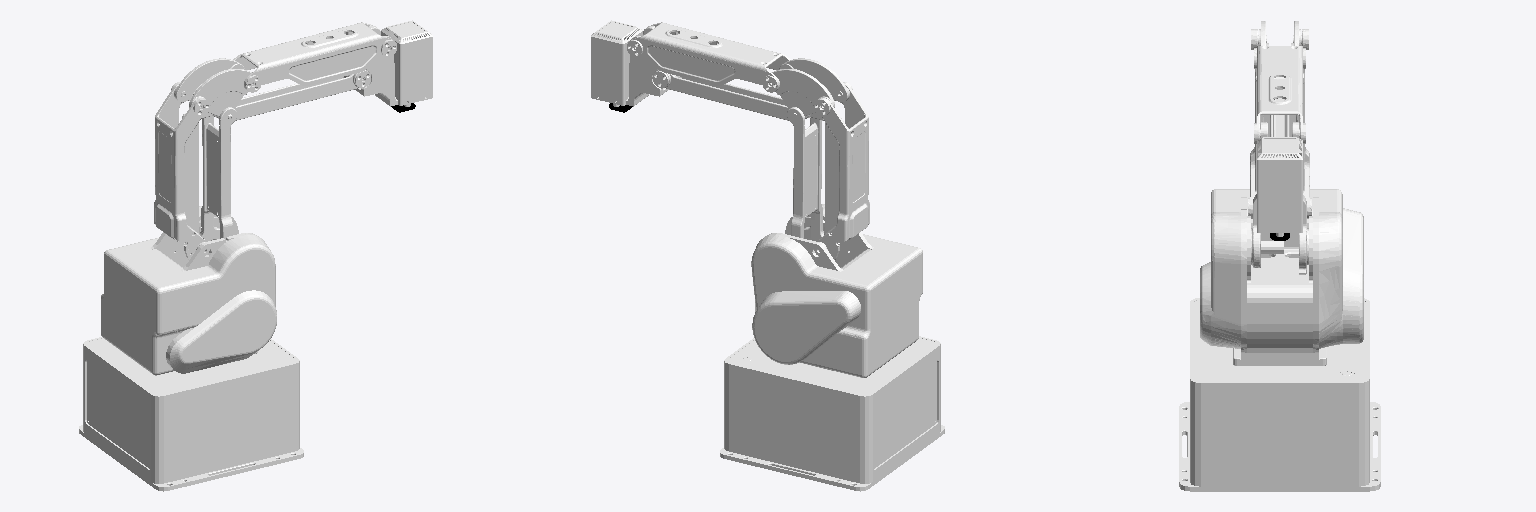
URDF robot description (mg400):
<?xml version="1.0" encoding="utf-8"?>
<!-- This URDF was automatically created by SolidWorks to URDF Exporter! Originally created by [author] ([email redacted]) 
     Commit Version: 1.6.0-1-g15f4949  Build Version: 1.6.7594.29634
     For more information, please see http://wiki.ros.org/sw_urdf_exporter -->
<robot name="mg400">
    <link name="base_link">
        <inertial>
            <origin xyz="0.000600637001378879 -2.53487071137343E-07 0.0560927888040551" rpy="0 0 0"/>
            <mass value="3.62164811695094"/>
            <inertia
                    ixx="0.0126582175296405"
                    ixy="6.66832041405407E-08"
                    ixz="-3.52548281362717E-06"
                    iyy="0.0145891535260188"
                    iyz="5.15901657460475E-08"
                    izz="0.0195045116656827"/>
        </inertial>
        <visual>
            <origin xyz="0 0 0" rpy="0 0 0"/>
            <geometry>
                <mesh filename="package://mg400/meshes/base_link.STL"/>
            </geometry>
            <material name="">
                <color rgba="1 1 1 1"/>
            </material>
        </visual>
        <collision>
            <origin xyz="0 0 0" rpy="0 0 0"/>
            <geometry>
                <mesh filename="package://mg400/meshes/base_link.STL"/>
            </geometry>
        </collision>
    </link>

    <link name="link1">
        <inertial>
            <origin xyz="-0.0046209286967387 -6.88107982318643E-05 0.0709919358465827" rpy="0 0 0"/>
            <mass value="1.77056222753813"/>
            <inertia
                    ixx="0.00605885293080088"
                    ixy="0.000156081820035162"
                    ixz="-0.00021785654850453"
                    iyy="0.00579381982249127"
                    iyz="6.20876898015621E-05"
                    izz="0.00741058257251941"/>
        </inertial>
        <visual>
            <origin xyz="0 0 0" rpy="0 0 0"/>
            <geometry>
                <mesh filename="package://mg400/meshes/link1.STL"/>
            </geometry>
            <material name="">
                <color rgba="1 1 1 1"/>
            </material>
        </visual>
        <collision>
            <origin xyz="0 0 0" rpy="0 0 0"/>
            <geometry>
                <mesh filename="package://mg400/meshes/link1.STL"/>
            </geometry>
        </collision>
    </link>

    <joint name="j1" type="revolute">
        <origin xyz="-0.00500000000000002 0 0.109" rpy="0 0 0"/>
        <parent link="base_link"/>
        <child link="link1"/>
        <axis xyz="0 0 1"/>
        <limit lower="-3.14" upper="3.14" effort="0" velocity="0"/>
    </joint>

    <link name="link2_1">
        <inertial>
            <origin xyz="-0.00321788524756698 0.0352926570826593 0.0596131328734945" rpy="0 0 0"/>
            <mass value="0.0866115884541459"/>
            <inertia
                    ixx="0.000338551627157209"
                    ixy="-2.78858228577314E-09"
                    ixz="1.05212346076681E-05"
                    iyy="0.000307789653713489"
                    iyz="-1.36109590152488E-06"
                    izz="3.89949940178023E-05"/>
        </inertial>
        <visual>
            <origin xyz="0 0 0" rpy="0 0 0"/>
            <geometry>
                <mesh filename="package://mg400/meshes/link2_1.STL"/>
            </geometry>
            <material name="">
                <color rgba="1 1 1 1"/>
            </material>
        </visual>
        <collision>
            <origin xyz="0 0 0" rpy="0 0 0"/>
            <geometry>
                <mesh filename="package://mg400/meshes/link2_1.STL"/>
            </geometry>
        </collision>
    </link>

    <joint name="j2_1" type="revolute">
        <origin xyz="0.0435007595118091 -0.0357748756218899 0.118995682641123" rpy="0 0 0"/>
        <parent link="link1"/>
        <child link="link2_1"/>
        <axis xyz="0 1 0"/>
        <limit lower="-3.14" upper="3.14" effort="0" velocity="0"/>
    </joint>

    <link name="link3_1">
        <inertial>
            <origin xyz="0.0821679417596488 0.000113044685842874 -0.00333758753063973" rpy="0 0 0"/>
            <mass value="0.0375214831045061"/>
            <inertia
                    ixx="2.54761091812684E-06"
                    ixy="3.73102654491378E-07"
                    ixz="-2.02625705871199E-06"
                    iyy="0.000164234314177935"
                    iyz="-1.44731096825347E-08"
                    izz="0.000164331500854172"/>
        </inertial>
        <visual>
            <origin xyz="0 0 0" rpy="0 0 0"/>
            <geometry>
                <mesh filename="package://mg400/meshes/link3_1.STL"/>
            </geometry>
            <material name="">
                <color rgba="1 1 1 1"/>
            </material>
        </visual>
        <collision>
            <origin xyz="0 0 0" rpy="0 0 0"/>
            <geometry>
                <mesh filename="package://mg400/meshes/link3_1.STL"/>
            </geometry>
        </collision>
    </link>

    <joint name="j3_1" type="revolute">
        <origin xyz="-0.0010512570171516 0.0357748756218898 0.175001164344716" rpy="0 0 0"/>
        <parent link="link2_1"/>
        <child link="link3_1"/>
        <axis xyz="0 1 0"/>
        <limit lower="-3.14" upper="3.14" effort="0" velocity="0"/>
    </joint>

    <link name="link4_1">
        <inertial>
            <origin xyz="0.0387878182928232 0.0170848333998282 -0.0024610990490942" rpy="0 0 0"/>
            <mass value="0.0628979533925801"/>
            <inertia
                    ixx="4.78483605712844E-05"
                    ixy="1.42081909356751E-07"
                    ixz="8.32917079044309E-06"
                    iyy="5.42362047732042E-05"
                    iyz="-2.90608446019989E-08"
                    izz="3.36120409842199E-05"/>
        </inertial>
        <visual>
            <origin xyz="0 0 0" rpy="0 0 0"/>
            <geometry>
                <mesh filename="package://mg400/meshes/link4_1.STL"/>
            </geometry>
            <material name="">
                <color rgba="1 1 1 1"/>
            </material>
        </visual>
        <collision>
            <origin xyz="0 0 0" rpy="0 0 0"/>
            <geometry>
                <mesh filename="package://mg400/meshes/link4_1.STL"/>
            </geometry>
        </collision>
    </link>

    <joint name="j4_1" type="revolute">
        <origin xyz="0.174969784055705 -0.0170000000000335 0.00325187137614585" rpy="0 0 0"/>
        <parent link="link3_1"/>
        <child link="link4_1"/>
        <axis xyz="0 1 0"/>
        <limit lower="-3.14" upper="3.14" effort="0" velocity="0"/>
    </joint>

    <link name="link5">
        <inertial>
            <origin xyz="4.24246458685662E-07 3.08507851181768E-14 -0.0349688816440933" rpy="0 0 0"/>
            <mass value="0.0965276919819365"/>
            <inertia
                    ixx="4.98589992160928E-05"
                    ixy="-1.534865545378E-12"
                    ixz="3.46424449605658E-10"
                    iyy="4.98589881725446E-05"
                    iyz="-5.64890953414983E-17"
                    izz="2.130463008359E-05"/>
        </inertial>
        <visual>
            <origin xyz="0 0 0" rpy="0 0 0"/>
            <geometry>
                <mesh filename="package://mg400/meshes/link5.STL"/>
            </geometry>
            <material name="">
                <color rgba="1 1 1 1"/>
            </material>
        </visual>
        <collision>
            <origin xyz="0 0 0" rpy="0 0 0"/>
            <geometry>
                <mesh filename="package://mg400/meshes/link5.STL"/>
            </geometry>
        </collision>
    </link>

    <joint name="j5" type="revolute">
        <origin xyz="0.0659996239003897 0.0170000000000371 0.031000800715573" rpy="0 0 0"/>
        <parent link="link4_1"/>
        <child link="link5"/>
        <axis xyz="-1.19408295462994E-05 0 0.999999999928708"/>
        <limit lower="-3.14" upper="3.14" effort="0" velocity="0"/>
    </joint>

    <link name="link2_2">
        <inertial>
            <origin xyz="-0.0201111131723385 0.0304999635268521 0.073632809340276" rpy="0 0 0"/>
            <mass value="0.0662546292985346"/>
            <inertia
                    ixx="0.000218973873589181"
                    ixy="3.0147933007673E-10"
                    ixz="2.51402553227571E-06"
                    iyy="0.000200510070261609"
                    iyz="-1.41837669904595E-09"
                    izz="3.74316777806776E-05"/>
        </inertial>
        <visual>
            <origin xyz="0 0 0" rpy="0 0 0"/>
            <geometry>
                <mesh filename="package://mg400/meshes/link2_2.STL"/>
            </geometry>
            <material name="">
                <color rgba="1 1 1 1"/>
            </material>
        </visual>
        <collision>
            <origin xyz="0 0 0" rpy="0 0 0"/>
            <geometry>
                <mesh filename="package://mg400/meshes/link2_2.STL"/>
            </geometry>
        </collision>
    </link>

    <joint name="j2_2" type="revolute">
        <origin xyz="0.00452885682964267 -0.0305 0.141500000000001" rpy="0 0 0"/>
        <parent link="link1"/>
        <child link="link2_2"/>
        <axis xyz="0 1 0"/>
        <limit lower="-3.14" upper="3.14" effort="0" velocity="0"/>
    </joint>

    <link name="link3_2">
        <inertial>
            <origin xyz="0.0338566736074436 0.0240208873857428 0.00452229895926692" rpy="0 0 0"/>
            <mass value="0.0366692789294813"/>
            <inertia
                    ixx="7.24011830695354E-06"
                    ixy="7.93542746250724E-10"
                    ixz="-1.69163254472566E-06"
                    iyy="2.34967008246727E-05"
                    iyz="4.55507111386579E-10"
                    izz="1.66831643179488E-05"/>
        </inertial>
        <visual>
            <origin xyz="0 0 0" rpy="0 0 0"/>
            <geometry>
                <mesh filename="package://mg400/meshes/link3_2.STL"/>
            </geometry>
            <material name="">
                <color rgba="1 1 1 1"/>
            </material>
        </visual>
        <collision>
            <origin xyz="0 0 0" rpy="0 0 0"/>
            <geometry>
                <mesh filename="package://mg400/meshes/link3_2.STL"/>
            </geometry>
        </collision>
    </link>

    <joint name="j3_2" type="revolute">
        <origin xyz="-0.00105049750546494 0.00649999999999986 0.174996846985851" rpy="0 0 0"/>
        <parent link="link2_2"/>
        <child link="link3_2"/>
        <axis xyz="0 1 0"/>
        <limit lower="-3.14" upper="3.14" effort="0" velocity="0"/>
    </joint>

    <link name="link4_2">
        <inertial>
            <origin xyz="0.0876391591012518 0.023499867452275 0.00831492252441945" rpy="0 0 0"/>
            <mass value="0.0453569016333092"/>
            <inertia
                    ixx="2.00037596001325E-05"
                    ixy="3.34474706250153E-09"
                    ixz="2.17594982354756E-07"
                    iyy="0.000132049841023893"
                    iyz="5.36978669669685E-10"
                    izz="0.000141813978894428"/>
        </inertial>
        <visual>
            <origin xyz="0 0 0" rpy="0 0 0"/>
            <geometry>
                <mesh filename="package://mg400/meshes/link4_2.STL"/>
            </geometry>
            <material name="">
                <color rgba="1 1 1 1"/>
            </material>
        </visual>
        <collision>
            <origin xyz="0 0 0" rpy="0 0 0"/>
            <geometry>
                <mesh filename="package://mg400/meshes/link4_2.STL"/>
            </geometry>
        </collision>
    </link>

    <joint name="j4_2" type="revolute">
        <origin xyz="0.0678965856063864 0.000500000000000073 0.0119719999403219" rpy="0 0 0"/>
        <parent link="link3_2"/>
        <child link="link4_2"/>
        <axis xyz="0 1 0"/>
        <limit lower="-3.14" upper="3.14" effort="0" velocity="0"/>
    </joint>

  <!--dummy joint-->
  <joint name="ee_joint" type="fixed">
    <parent link="link5"/>
    <child link="ee_link"/>
    <origin xyz="0 0 -0.065" rpy="0 0 0"/>
  </joint>

  <link name="ee_link">
    <visual>
      <origin rpy="0 0 0" xyz="0 0 0"/>
      <geometry>
        <sphere radius="0.005"/>
      </geometry>
        <material name="Red"/>
    </visual>
    <collision>
      <geometry>
        <sphere radius="0.001"/>
      </geometry>
      <origin rpy="0 0 0" xyz="0.0 0 0"/>
    </collision>
    <inertial>
      <mass value="0.0"/>
      <origin rpy="-3.14 0.0 1.57" xyz="0.0 0.0 0.0"/>
      <inertia ixx="0.001" ixy="0.0" ixz="0.0" iyy="0.001" iyz="0.0" izz="0.001"/>
    </inertial>
  </link>

  <link
    name="digit_body_link">
    <inertial>
      <origin
        xyz="0.00443338071044421 -0.0140914049333968 4.96453152977634E-09+0.02"
        rpy="0 0 0" />
      <mass
        value="0.0077837104153161" />
      <inertia
        ixx="7.77176839696665E-07"
        ixy="-5.52554519832781E-09"
        ixz="-2.21347841658254E-13"
        iyy="1.5788930001559E-06"
        iyz="-8.96409493368731E-14"
        izz="1.05613167218354E-06" />
    </inertial>
    <visual>
      <origin
        xyz="0 0 0.02"
        rpy="0 0 0" />
      <geometry>
        <mesh
          filename="../digit/standard_digit/digit_asmb/meshes/digit_body.STL" />
      </geometry>
      <material
        name="digit_body">
        <color
          rgba="0.792156862745098 0.819607843137255 0.933333333333333 1" />
      </material>
    </visual>
    <collision>
      <origin
        xyz="0 0 0.02"
        rpy="0 0 0" />
      <geometry>
        <mesh
          filename="../digit/standard_digit/digit_asmb/meshes/digit_body.STL" />
      </geometry>
    </collision>
  </link>


      <joint name="digit_ee_joint" type="fixed">
        <parent link="ee_link"/>
        <child link="digit_body_link"/>
        <origin rpy="-3.14 0.0 3.14" xyz="0.0 0.0 0.0"/>
      </joint>


  <link
    name="digit_tip_link">
    <inertial>
      <origin
        xyz="-2.15568578500849E-07 0.00554133274527847 -0.00576051345741577-0.02"
        rpy="0 0 0" />
      <mass
        value="0.00130411151086353" />
      <inertia
        ixx="5.48284140746448E-08"
        ixy="-4.02703926962539E-12"
        ixz="-5.29135712007007E-14"
        iyy="3.03790231207661E-08"
        iyz="-1.56642204167579E-10"
        izz="8.26200689636922E-08" />
    </inertial>
    <visual>
      <origin
        xyz="0 0 -0.02"
        rpy="0 0 0" />
      <geometry>
        <mesh
          filename="../digit/standard_digit/digit_asmb_hollow/meshes/digit_core.STL" scale="1.0 1.0 1.0"/>
      </geometry>
      <material
        name="digit_skin">
        <color
          rgba="0.0 0.0 0.0 1" />
      </material>
    </visual>
    <collision>
      <origin
        xyz="0 0 -0.02"
        rpy="0 0 0" />
      <geometry>
        <mesh
          filename="../digit/standard_digit/digit_asmb/meshes/digit_core.STL" />
      </geometry>
    </collision>
  </link>

  <joint
    name="digit_tip_to_body"
    type="fixed">
    <origin
      xyz="-0.00151521951809463 -1.36251105150219E-05 -0.00415"
      rpy="-3.14159265358979 0 1.5707963267949" />
    <parent
      link="digit_body_link" />
    <child
      link="digit_tip_link" />
    <axis
      xyz="0 0 0" />
  </joint>
      <!-- TCP -->
      <link name="tcp_link">
        <visual>
          <origin rpy="0 0 0" xyz="0 0 0"/>
          <geometry>
            <sphere radius="0.001"/>
          </geometry>
           <material name="TransparentRed"/>
        </visual>
        <inertial>
          <mass value="0.0"/>
          <origin rpy="0.0 0.0 1.57" xyz="0.0 0.0 0.0"/>
          <inertia ixx="1.0" ixy="0.0" ixz="0.0" iyy="1.0" iyz="0.0" izz="1.0"/>
        </inertial>
      </link>

      <joint name="tcp_joint" type="fixed">
        <parent link="digit_body_link"/>
        <child link="tcp_link"/>
        <origin rpy="0 0 0" xyz="0.0007 0.0 0.025"/>
        <!-- <origin rpy="0 0 0" xyz="0.00145 0.0 0.025"/> -->
        <!-- <origin rpy="0 0 0" xyz="0.0018 0.0 0.025"/> -->
      </joint>


<!-- 
  <link
    name="sq_link">
    <inertial>
      <origin
        xyz="-0.00535000000000003 0.00799999999999999 5.00000000005617E-06-0.02"
        rpy="0 0 0" />
      <mass
        value="1.59999999999993E-07" />
      <inertia
        ixx="5.33346666666645E-14"
        ixy="-1.34013559776601E-30"
        ixz="4.41903370583012E-33"
        iyy="5.33346666666645E-14"
        iyz="-3.65677197028787E-28"
        izz="1.06666666666662E-13" />
    </inertial>
    <visual>
      <origin
        xyz="0 0 -0.02"
        rpy="0 0 0" />
      <geometry>
        <mesh
          filename="../digit/standard_digit/digit_asmb_skin_with_marks/meshes/sq_link.STL" />
      </geometry>
      <material
        name="Green">
        <color
          rgba="0.9 0.9 0.9 1" />
      </material>
    </visual>
    <collision>
      <origin
        xyz="0 0 -0.02"
        rpy="0 0 0" />
      <geometry>
        <mesh
          filename="../digit/standard_digit/digit_asmb_skin_with_marks/meshes/sq_link.STL" />
      </geometry>
    </collision>
  </link>


  <joint
    name="skin_sq_joint"
    type="fixed">
    <origin
      xyz="-0.00535000000000005 0.0132650762017464 -0.00645000000000009"
      rpy="0 0 3.14159265358979" />
    <parent
      link="digit_tip_link" />
    <child
      link="sq_link" />
    <axis
      xyz="0 0 0" />
  </joint>
 -->


</robot>

--- What the picture shows (computed from the rendered views, not written in the file) ---
Views: 3 orthographic renders of the robot side by side, from view 1: azimuth 30°, elevation 25°; view 2: azimuth 150°, elevation 25°; view 3: azimuth 270°, elevation 25°.
Model mg400 with 13 links and 12 joints (8 revolute, 4 fixed), rooted at base_link, posed every joint at zero.
Links seen in each view (by area): view 1: base_link, link1, link2_2, link4_2, link4_1, link2_1, link3_2, link3_1; view 2: base_link, link1, link2_2, link4_2, link4_1, link2_1, link3_2, link3_1; view 3: base_link, link1, link4_1, link4_2, link2_1, link2_2.
Link boxes in pixels (left/top/right/bottom): base_link: left=79, top=337, right=303, bottom=491; link1: left=101, top=206, right=276, bottom=375; link2_2: left=154, top=82, right=209, bottom=255; link4_2: left=233, top=22, right=396, bottom=92; link4_1: left=353, top=20, right=432, bottom=106; link2_1: left=200, top=107, right=236, bottom=241; link3_2: left=174, top=58, right=254, bottom=118; link3_1: left=182, top=74, right=357, bottom=120; base_link: left=720, top=336, right=944, bottom=491; link1: left=751, top=204, right=922, bottom=377; link2_2: left=814, top=82, right=869, bottom=255; link4_2: left=627, top=22, right=790, bottom=92; link4_1: left=591, top=20, right=670, bottom=106; link2_1: left=787, top=107, right=823, bottom=241; link3_2: left=769, top=58, right=849, bottom=118; link3_1: left=666, top=74, right=823, bottom=120; base_link: left=1179, top=298, right=1380, bottom=491; link1: left=1200, top=189, right=1363, bottom=365; link4_1: left=1257, top=122, right=1302, bottom=232; link4_2: left=1254, top=46, right=1305, bottom=143; link2_1: left=1251, top=73, right=1308, bottom=274; link2_2: left=1248, top=29, right=1311, bottom=218.
Bounding box of the posed robot: 0.3954 × 0.19 × 0.4597 m (x, y, z).
Meshes: 11 distinct files referenced, 10 mesh visuals loaded (10 binary STL); not drawn: 1 (reference not matched to a file when rendering).